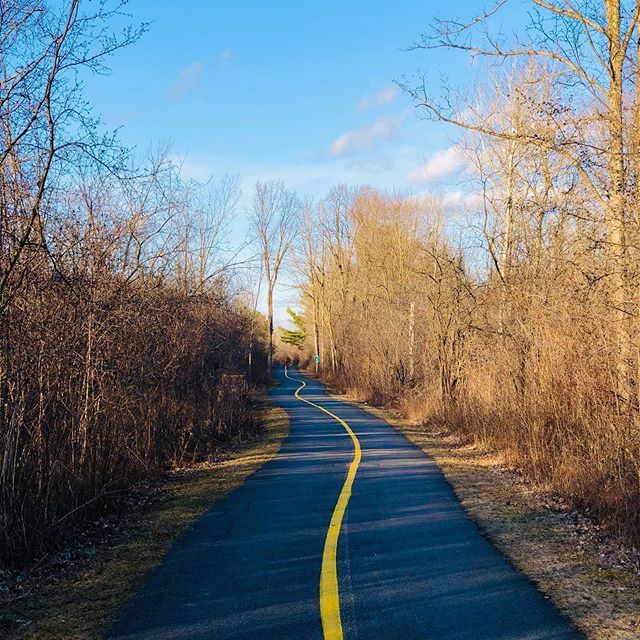road: (119, 365, 591, 640)
sky: (77, 1, 509, 196)
vegetation: (1, 187, 281, 623), (315, 196, 640, 563)
